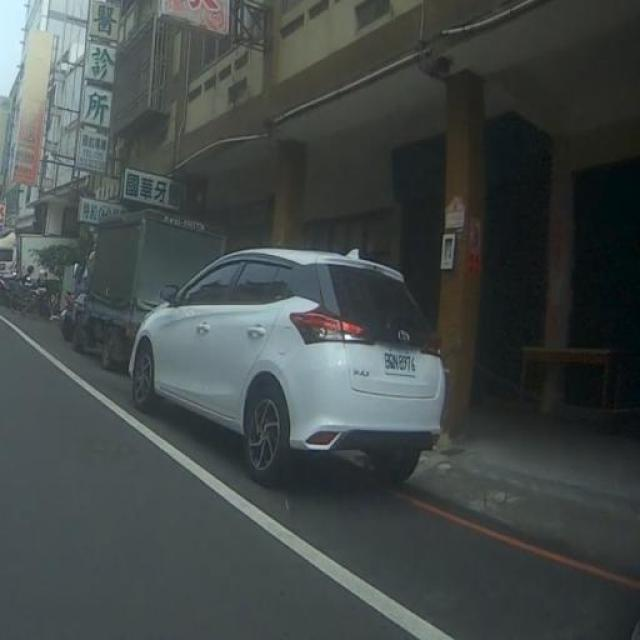illegalparking: (64, 190, 484, 485)
